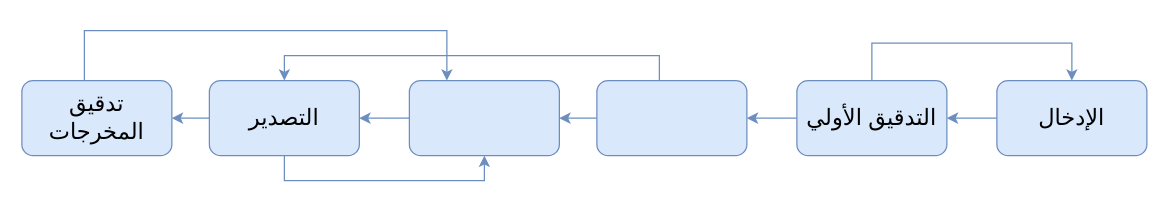
Some shapes in this 1169 by 213 pixel diagram are drawn without their labels. The box of each missing label's shape, as (x1, y1, x2, y2) in pixels:
التنسيق ١: (596, 79, 747, 156)
التنسيق٢: (408, 79, 559, 156)
